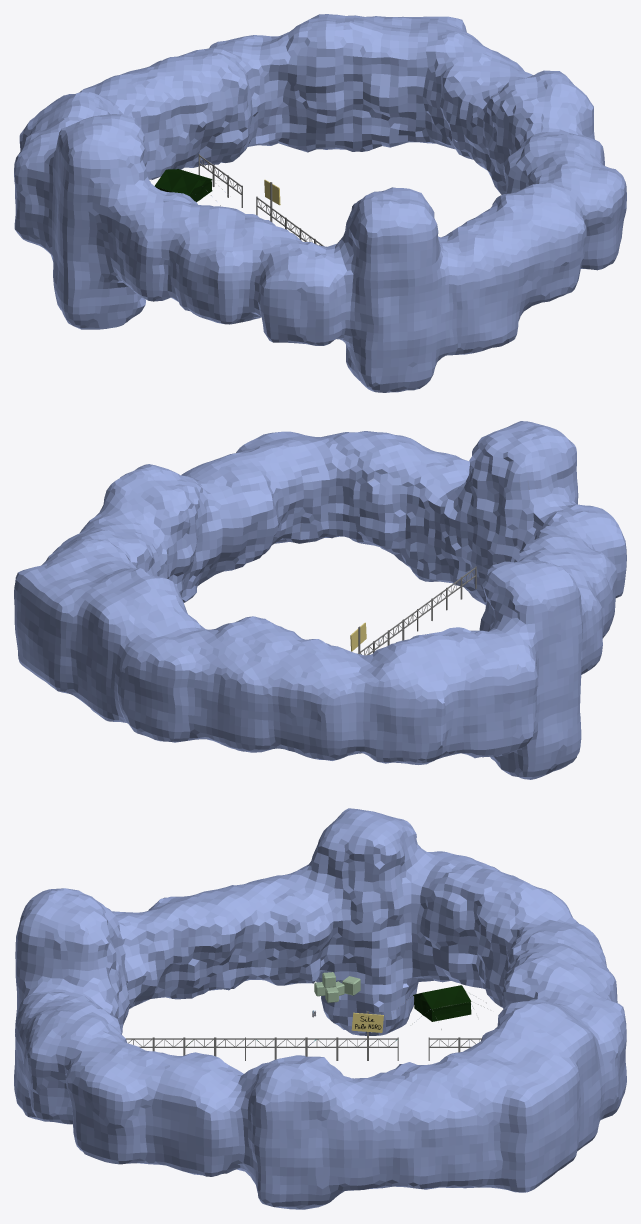
The model's file is pole_nord_wall_and_props.fbx.
3 renders of one model, top to bottom at view 1: azimuth 30°, elevation 25°; view 2: azimuth 150°, elevation 25°; view 3: azimuth 270°, elevation 25°, orthographic. The views are drawn at different scales.
Parts seen in each view (by area): view 1: pole_nord.002; view 2: pole_nord.002; view 3: pole_nord.002.
Part boxes in pixels (x1,y1,x2,y2): pole_nord.002: (14,14,626,392); pole_nord.002: (14,421,626,779); pole_nord.002: (14,808,626,1209).
Size of the model in its own units: 24656 by 9549 by 25062.
